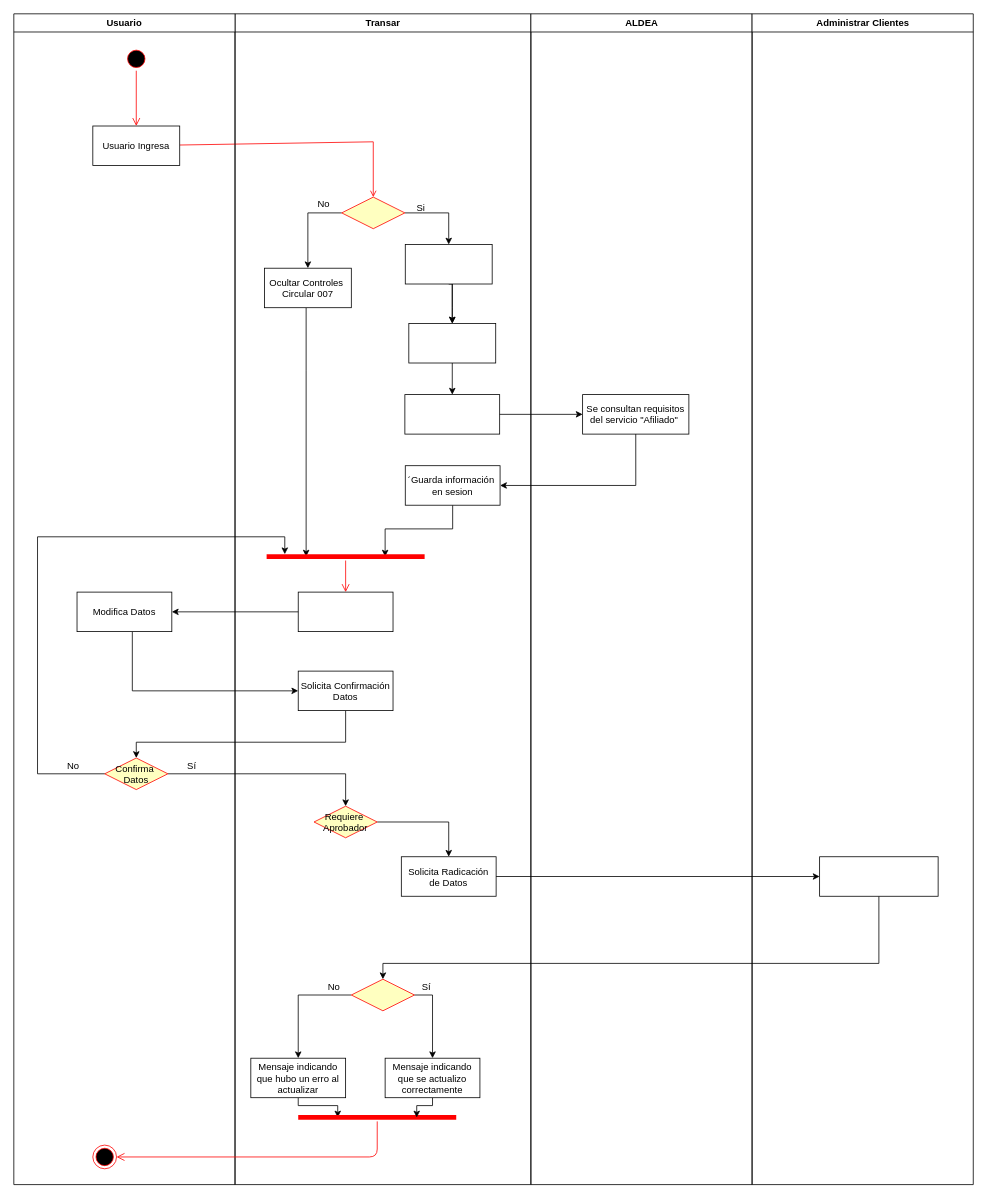
The diagram is 988 pixels wide and 1198 high, and some of its shapes have lost their labels. Each missing label, with the centre of its shape:
Cargar Controles Circular 007: the point at 448,264
Cargar información de usuario de sesion: the point at 452,343
Consultar información requisitos circular 007: the point at 452,414
Es Afiliado Caja y es Cotizante: the point at 373,212
Muestra datos al usuario: the point at 345,611
Radicación Correcta: the point at 383,994
Se actualizan Datos a traves del servicio Radicar: the point at 878,876
